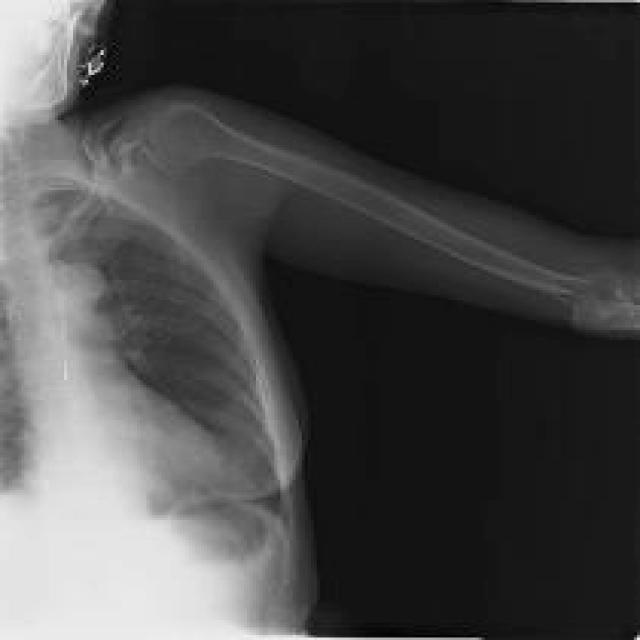normal: (1, 0, 286, 639), (148, 102, 637, 337)
